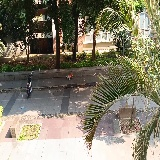fire: (68, 74, 73, 77)
